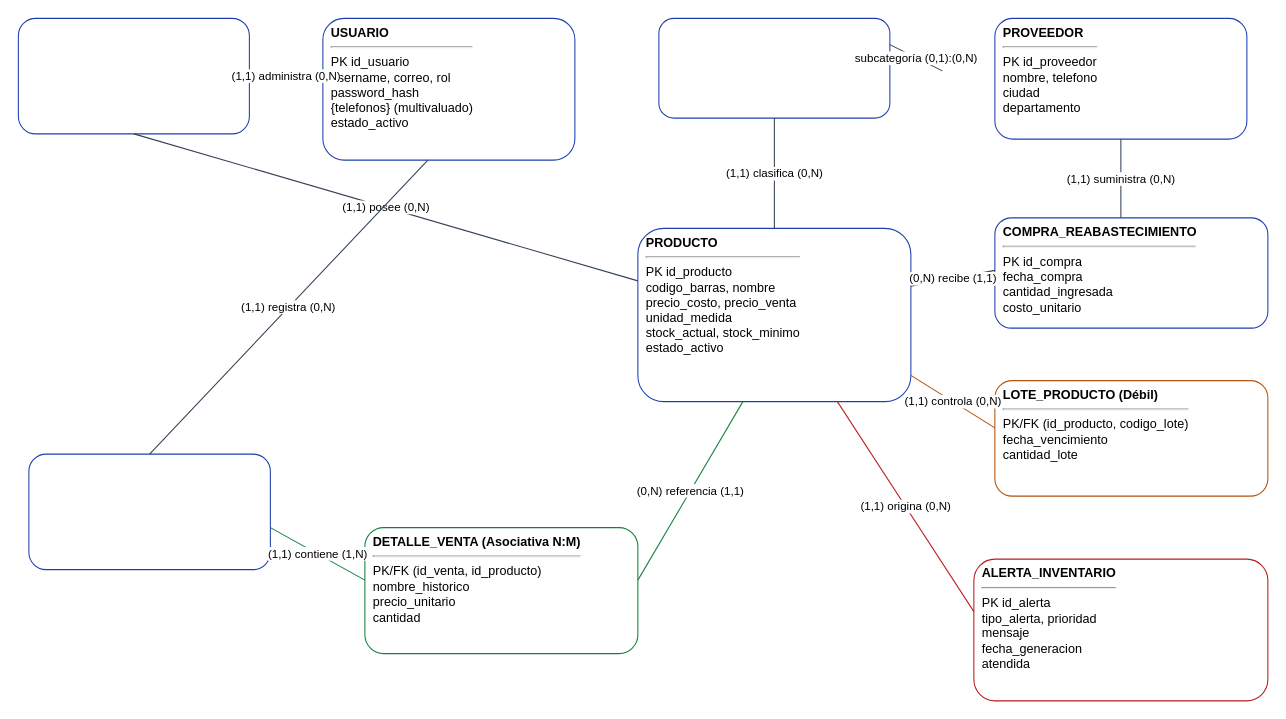
Some shapes in this 1286 by 719 pixel diagram are drawn without their labels. Here are the shapes that lost their labels. From the top down, the centre of each, then its label:
pixel 133 75: TIENDA PK id_tienda UK nit nombre estado_activo, fecha_registro
pixel 774 67: CATEGORIA (recursiva) PK id_categoria nombre descripcion
pixel 149 511: VENTA PK id_venta fecha_venta medio_pago porcentaje_descuento
